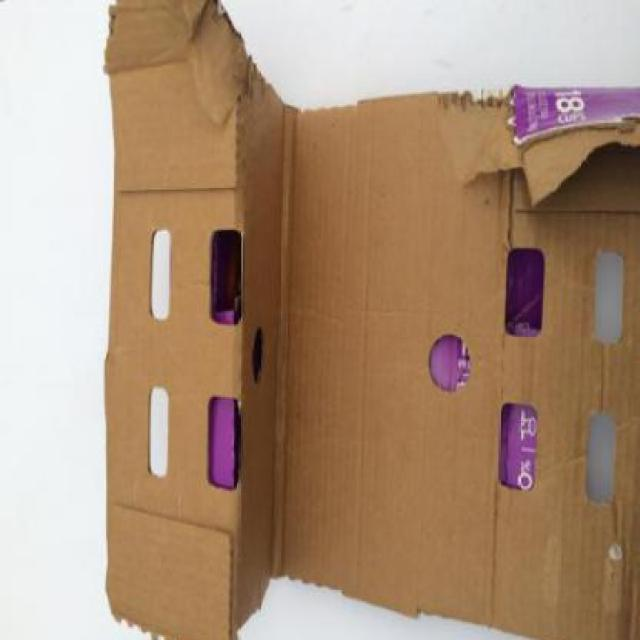box: (81, 3, 638, 640)
